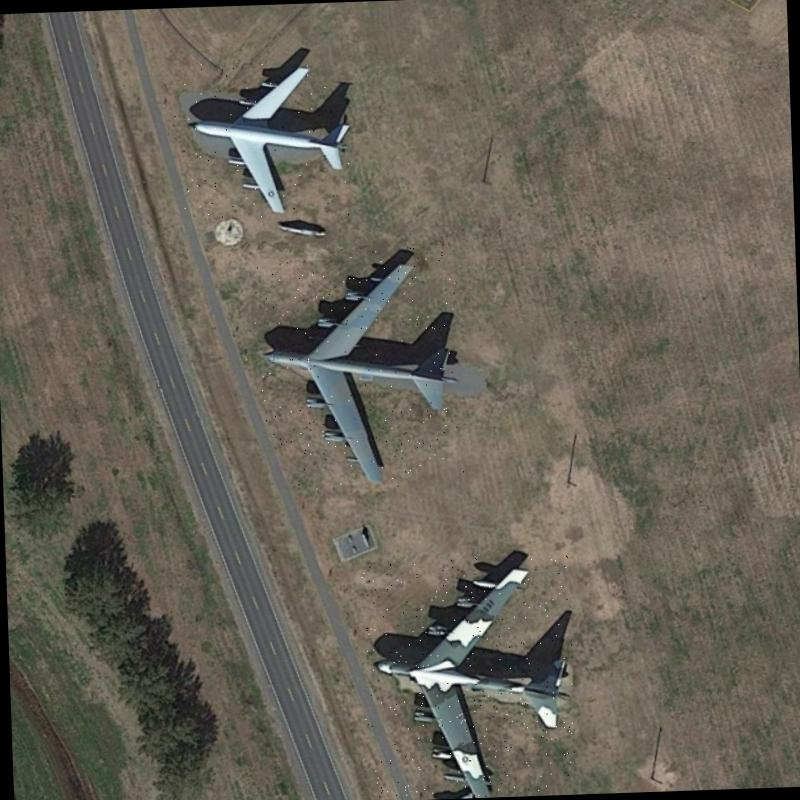A11: (172, 57, 358, 220)
A8: (358, 553, 577, 800), (251, 245, 464, 493)
